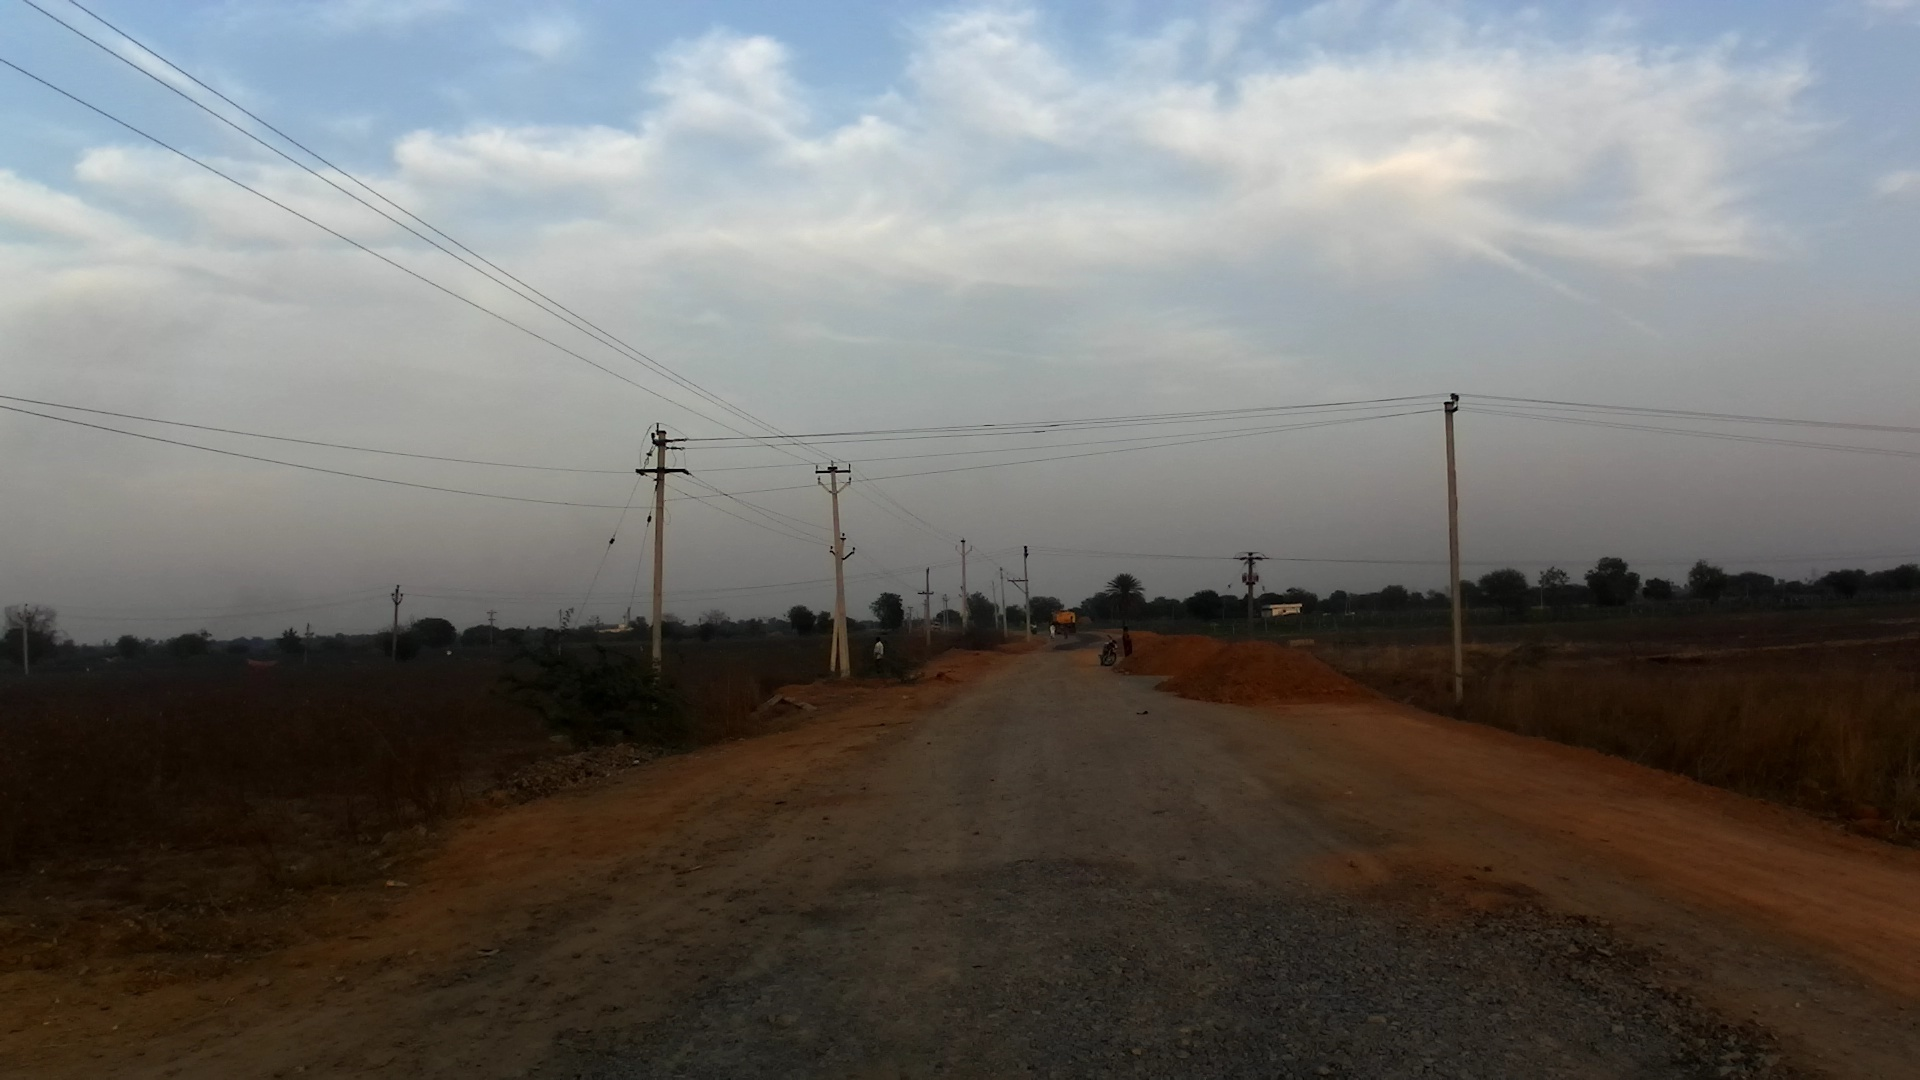motorcycle: (1099, 632, 1119, 673)
person: (1117, 623, 1135, 657), (869, 638, 885, 674), (1045, 622, 1057, 646), (1060, 622, 1071, 642)
truck: (1049, 611, 1076, 645)
vehicle fallback: (1029, 619, 1037, 635)
